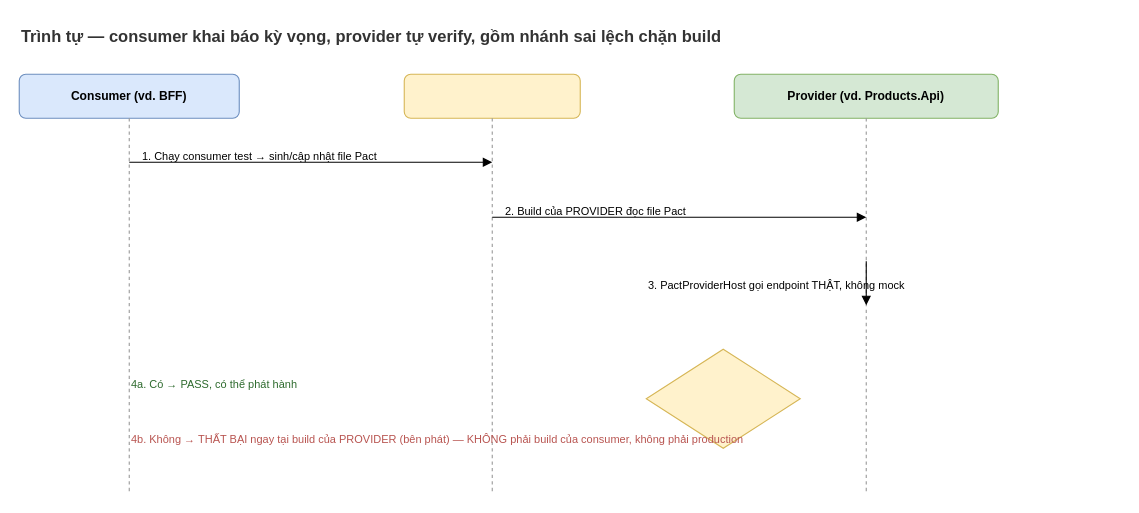
This 1139x513 diagram has some shape labels left out. Here are the shapes that lost their labels. From the top down, the centre of each, then its label:
At pixel 491 95: "File Pact".
At pixel 722 398: "Khớp kỳ vọng của consumer?".
